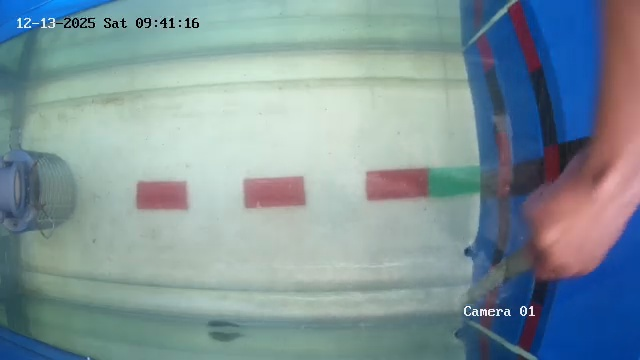fish: (206, 316, 250, 334)
